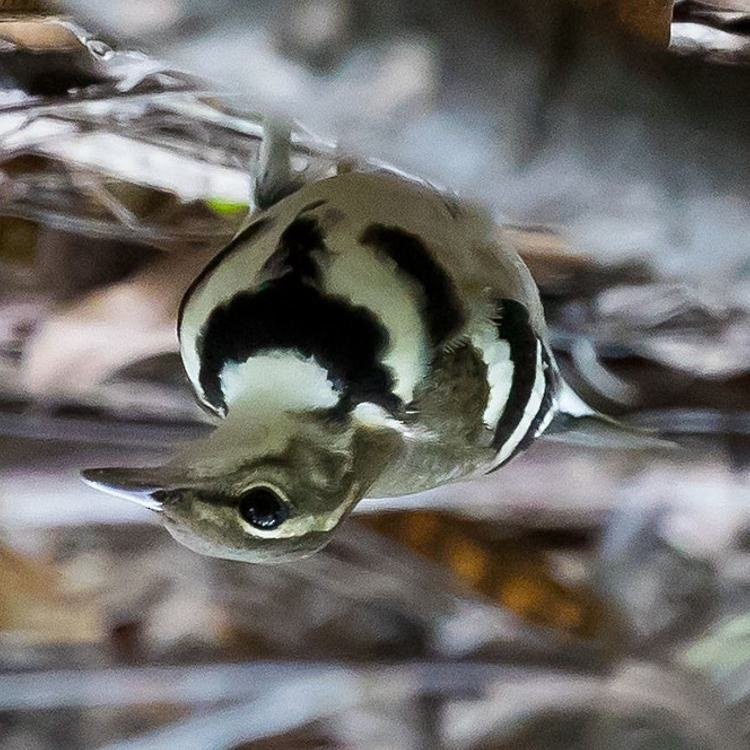wagtail: (66, 158, 624, 567)
